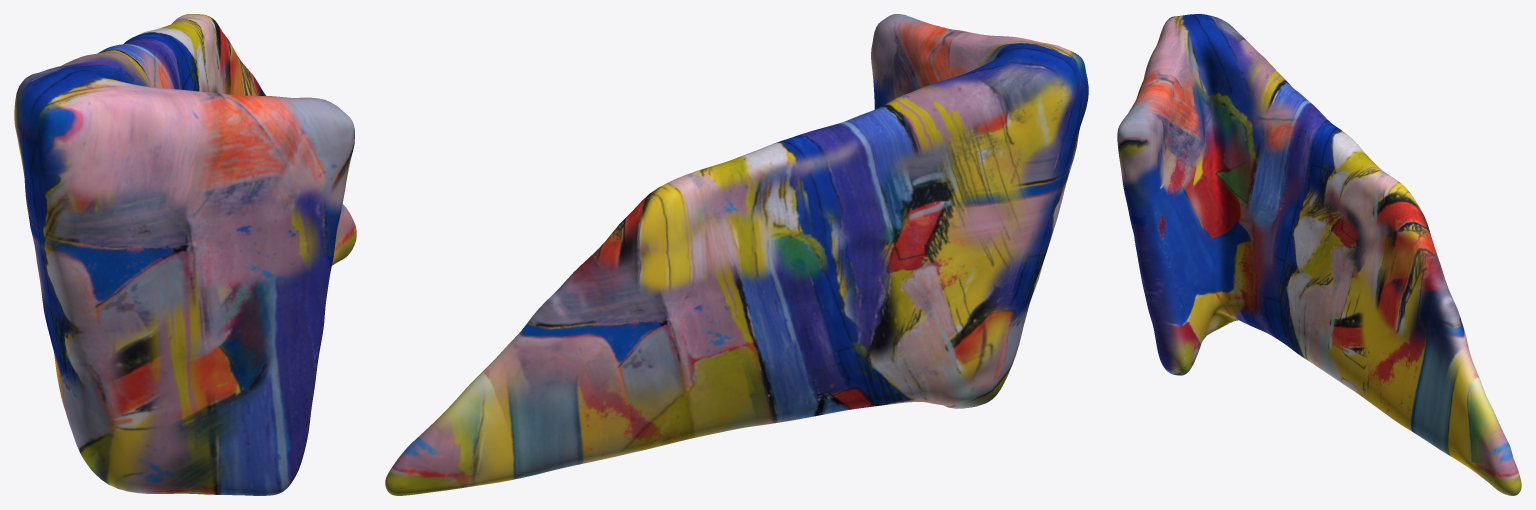
The picture shows the model from 3 angles, left to right: view 1: azimuth 30°, elevation 25°; view 2: azimuth 150°, elevation 25°; view 3: azimuth 270°, elevation 25°; orthographic projection. The views are drawn at different scales.
Visible parts, largest first — view 1: Group53592; view 2: Group53592; view 3: Group53592.
Part boxes in pixels (x1,y1,x2,y2): Group53592: (14, 14, 356, 495); Group53592: (385, 14, 1088, 495); Group53592: (1117, 14, 1521, 495).
Size of the model in its own units: 2.26 by 1.8 by 2.11.
Materials: 1 (1 with a texture image).
